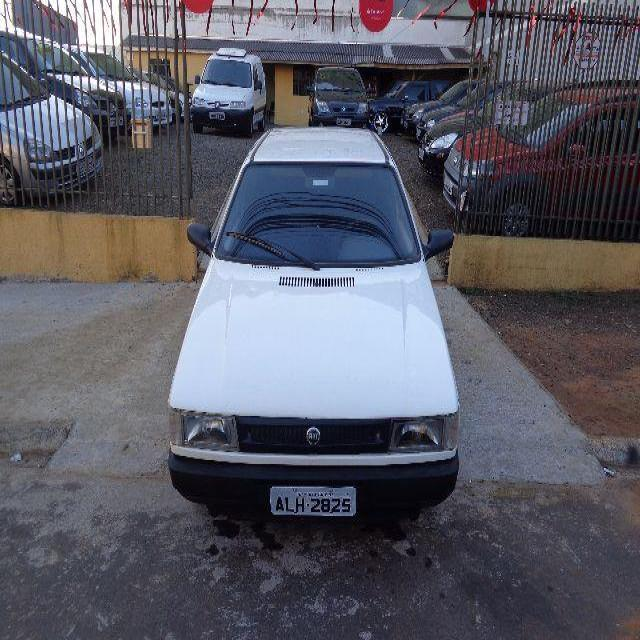Placa: (267, 481, 360, 520)
